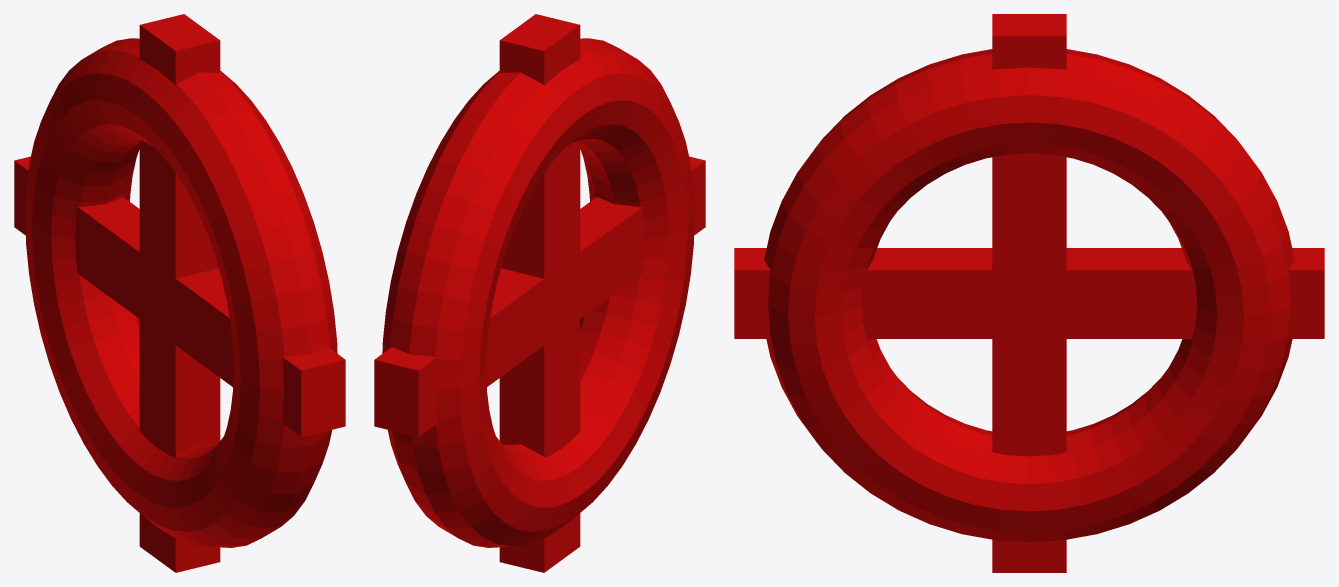
File: aim.fbx
3 views of the same model, side by side, from view 1: azimuth 30°, elevation 25°; view 2: azimuth 150°, elevation 25°; view 3: azimuth 270°, elevation 25° (orthographic). The views are drawn at different scales.
Visible parts, largest first — view 1: Cube; view 2: Cube; view 3: Cube.
Boxes of the visible parts, x1=… form: Cube: x1=14, y1=14, x2=345, y2=572; Cube: x1=374, y1=14, x2=705, y2=572; Cube: x1=734, y1=14, x2=1324, y2=572.
Size of the model in its own units: 86.88 by 479 by 478.
